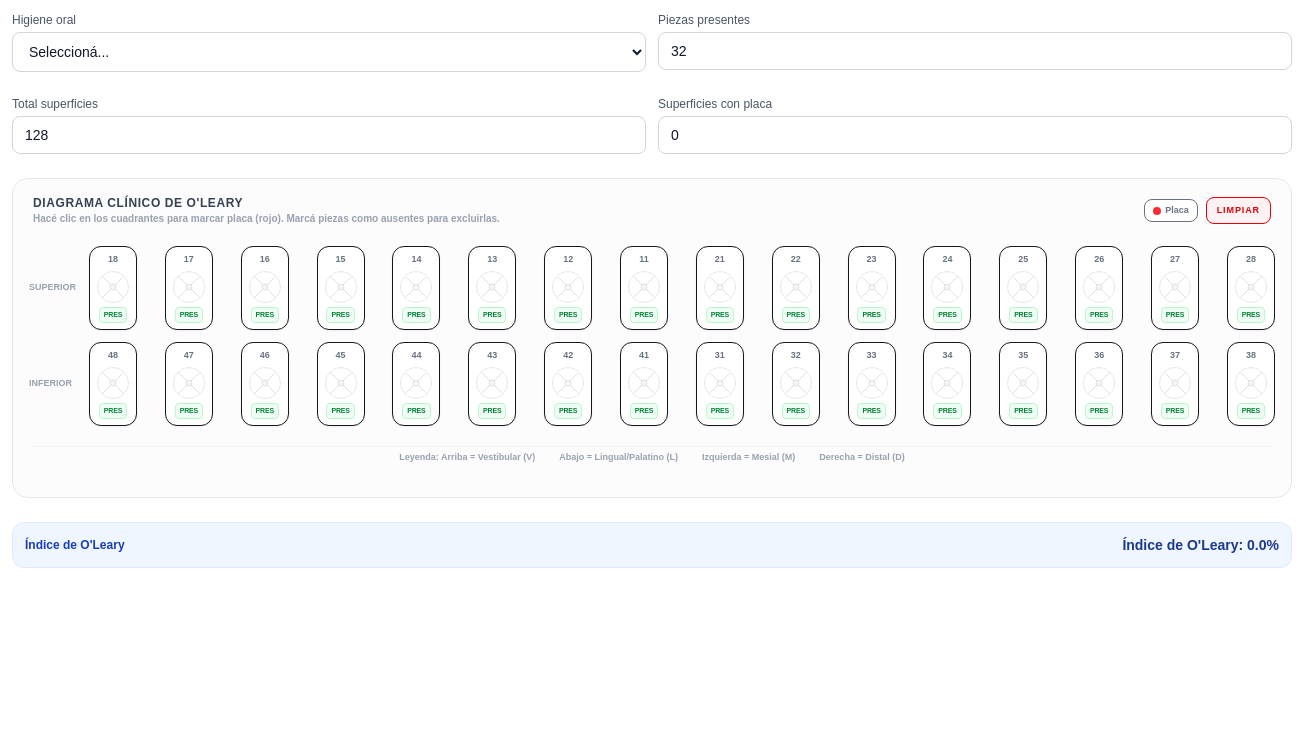
OralHygieneFields › calculates O'Leary index automatically in real-time
The image size is (1304, 732).
Replace the text in the number field labelled "Piezas presentes" with "28" at (975, 51), box x1=658 y1=32 x2=1292 y2=70
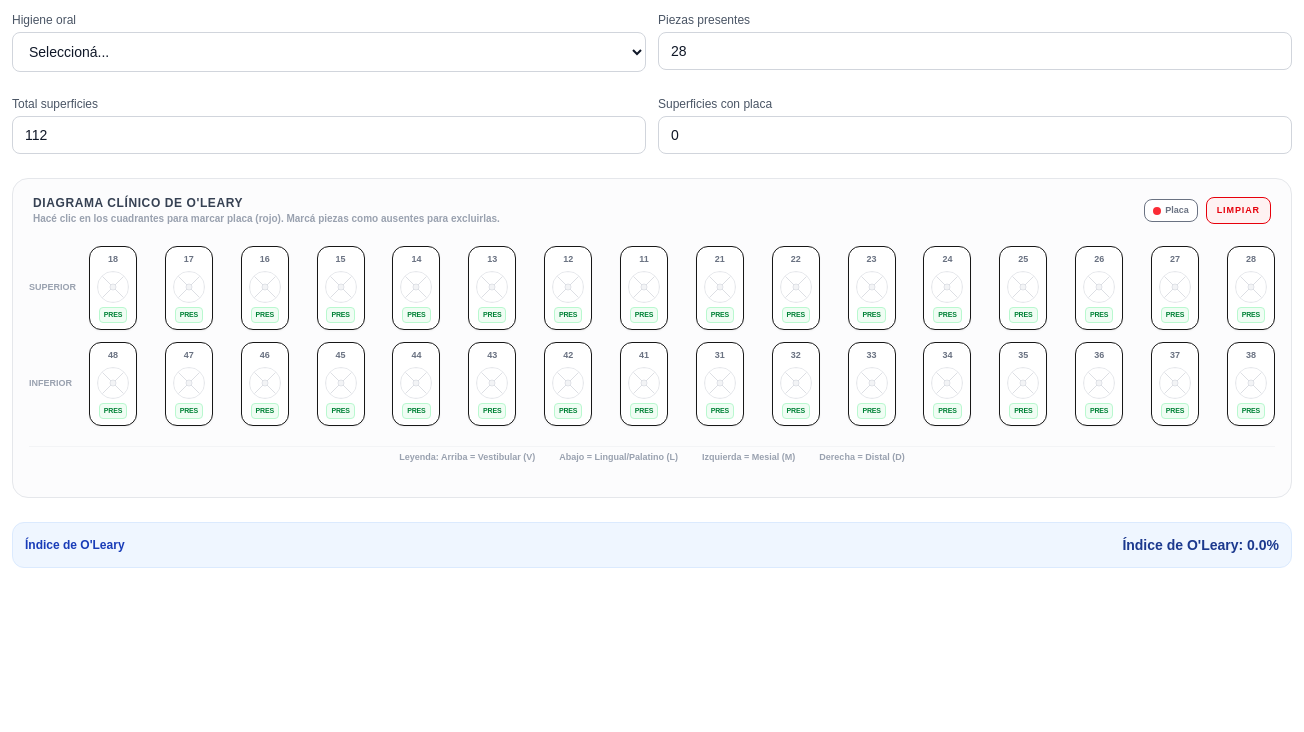
Expected: the number field labelled "Total superficies" holds "112", x1=12 y1=116 x2=646 y2=154
Replace the text in the number field labelled "Superficies con placa" with "14" at (975, 135), box x1=658 y1=116 x2=1292 y2=154
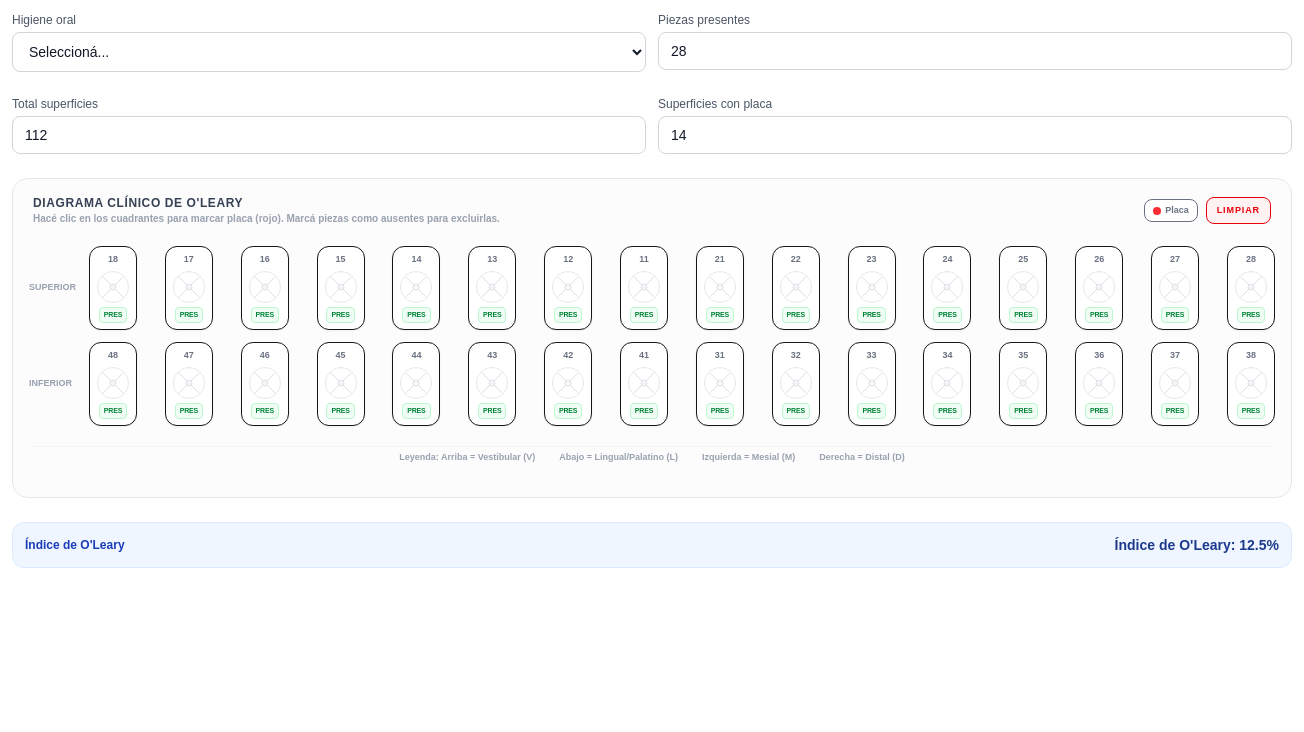
Expected: the text "Índice de O'Leary: 12.5%" is shown, x1=1115 y1=534 x2=1279 y2=554
Replace the text in the number field labelled "Total superficies" with "100" at (329, 135), box x1=12 y1=116 x2=646 y2=154
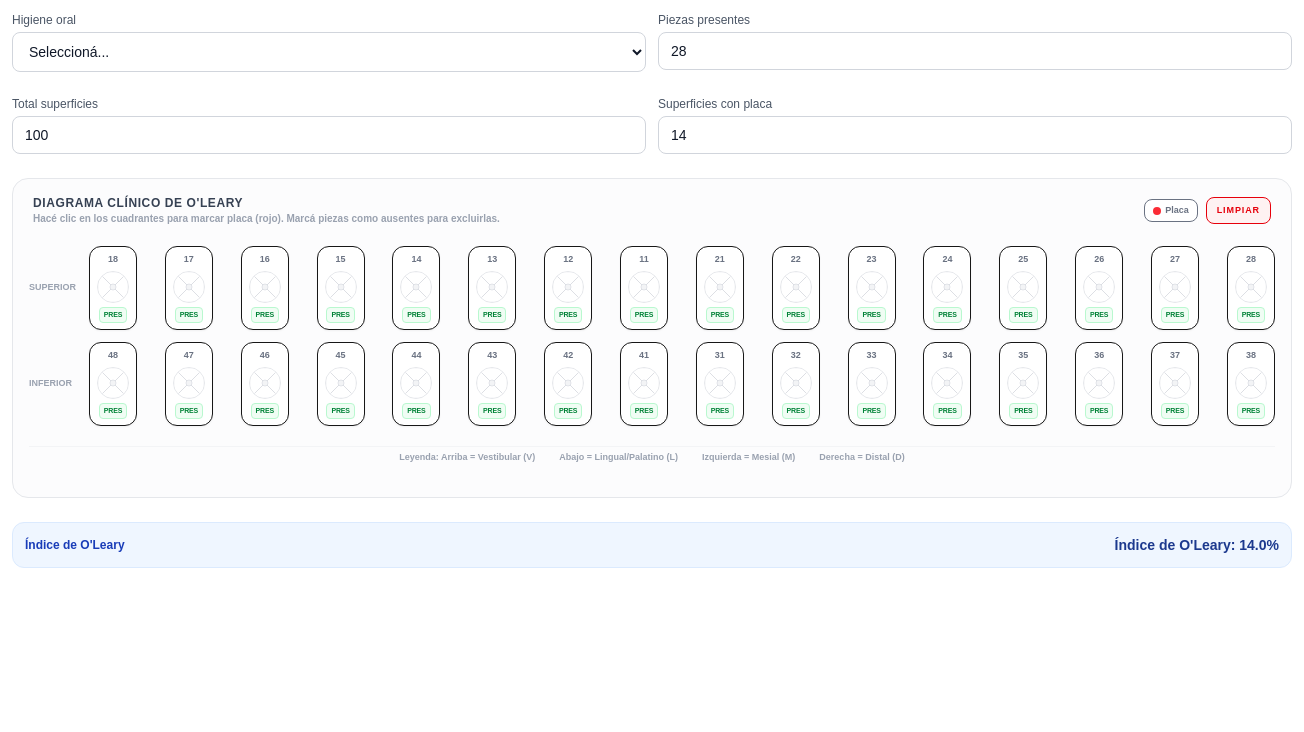
Expected: the text "Índice de O'Leary: 14.0%" is shown, x1=1115 y1=534 x2=1279 y2=554
